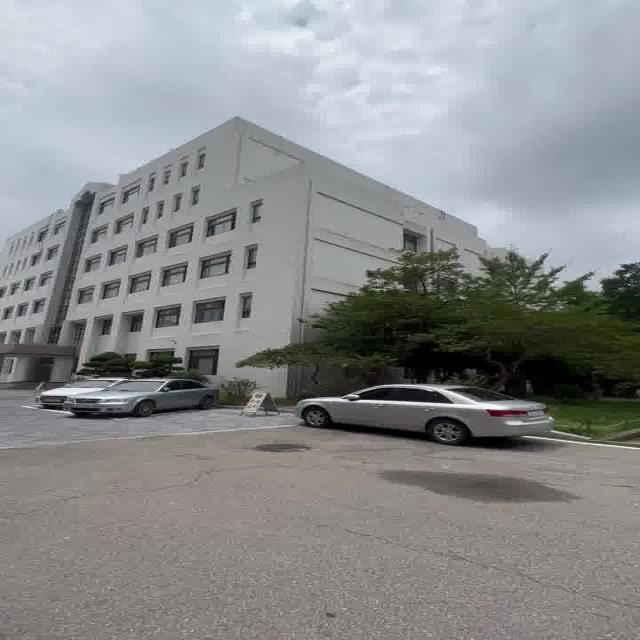building: (39, 135, 288, 379)
